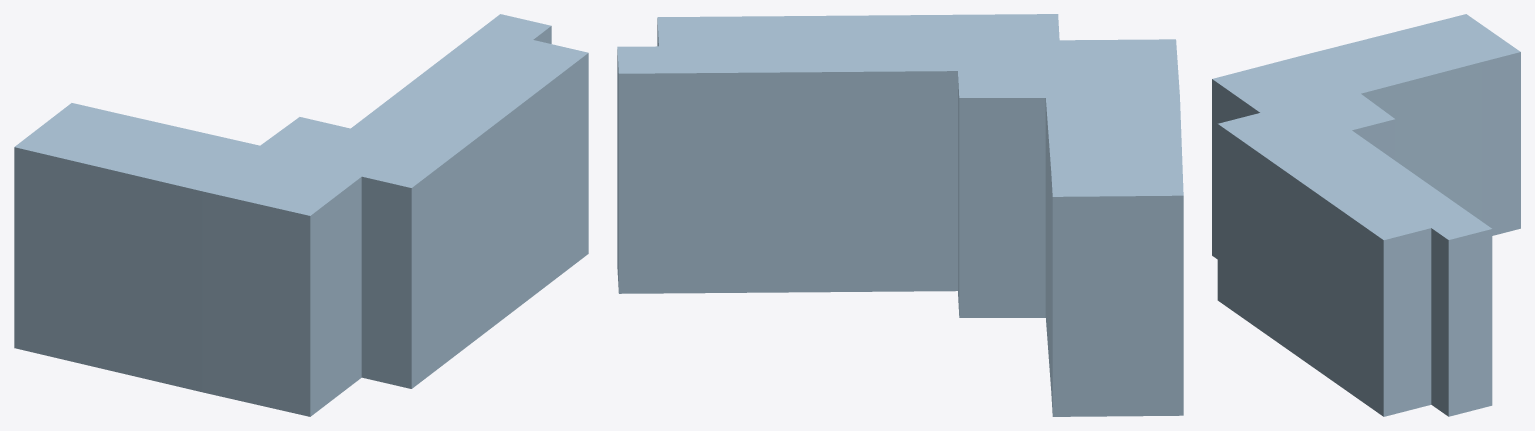
The model's file is osm_way_225255196.glb.
3 renders of one model, left to right at view 1: azimuth 30°, elevation 25°; view 2: azimuth 150°, elevation 25°; view 3: azimuth 270°, elevation 25°, orthographic. The views are drawn at different scales.
Visible parts, largest first — view 1: osm_way_225255196; view 2: osm_way_225255196; view 3: osm_way_225255196.
Boxes of the visible parts, left/top/right/bottom form: osm_way_225255196: left=14, top=14, right=588, bottom=416; osm_way_225255196: left=617, top=14, right=1183, bottom=416; osm_way_225255196: left=1212, top=14, right=1520, bottom=416.
Size of the model in its own units: 52.74 by 19.2 by 30.41.
